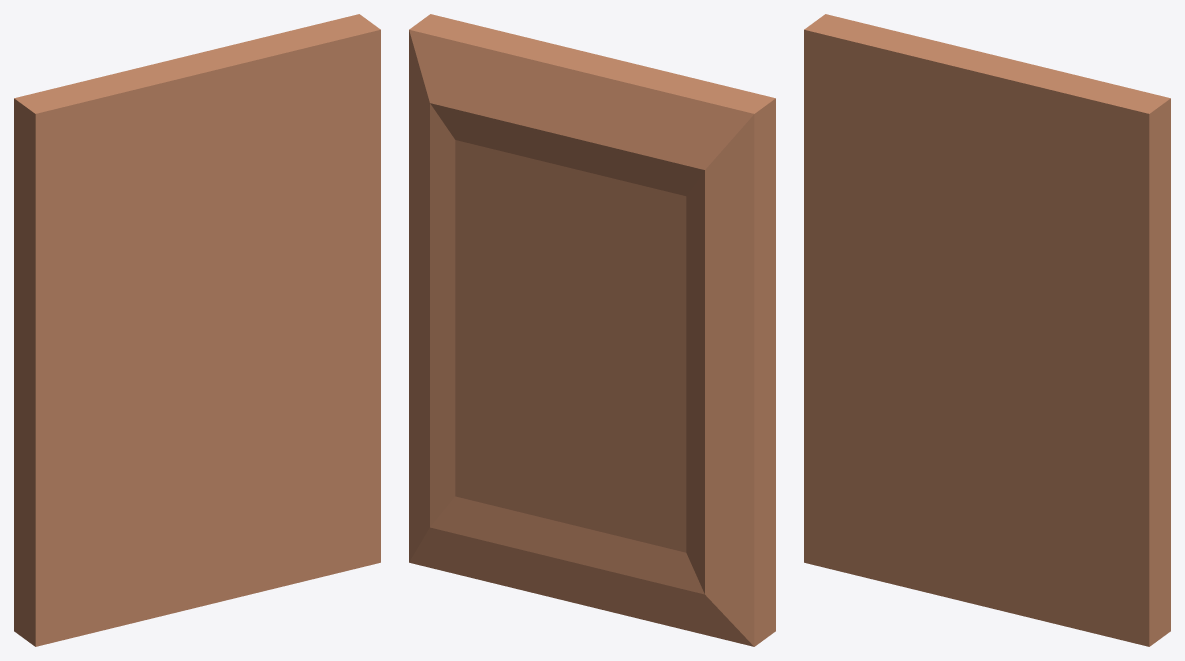
Rendered from DarkChocolate 1.fbx.
3 renders of one model, left to right at view 1: azimuth 30°, elevation 25°; view 2: azimuth 150°, elevation 25°; view 3: azimuth 330°, elevation 25°, orthographic.
Visible parts, largest first — view 1: DarkChocolate; view 2: DarkChocolate; view 3: DarkChocolate.
Part boxes in pixels (box(x1,y1,x2,y2)): DarkChocolate: box(14, 14, 380, 646); DarkChocolate: box(409, 14, 775, 646); DarkChocolate: box(804, 14, 1170, 646).
Bounding box in the file's own units: 136 × 200 × 24.32.
